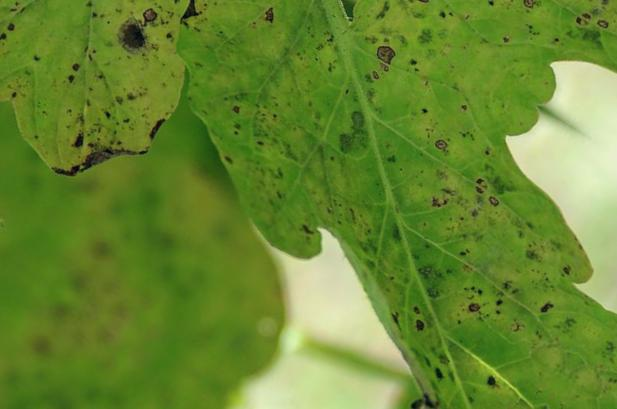Tomato Septoria leaf spot: (19, 0, 617, 409), (0, 0, 305, 269)
